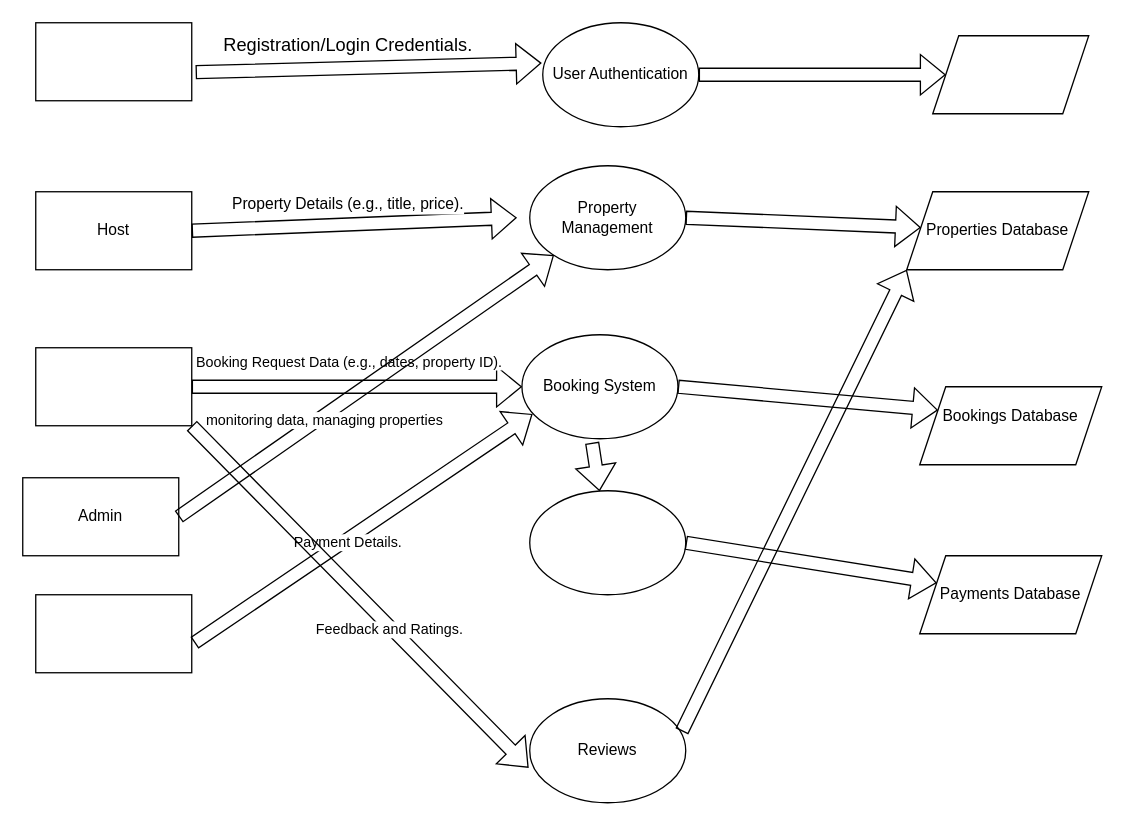
This 1125x826 diagram has some shape labels left out. Here are the shapes that lost their labels. From the top down, the centre of each, then its label:
point (113, 61): Users Host/Guest
point (1010, 74): Users Database
point (113, 386): Guest
point (607, 542): Payments
point (113, 633): Payment Gateway
